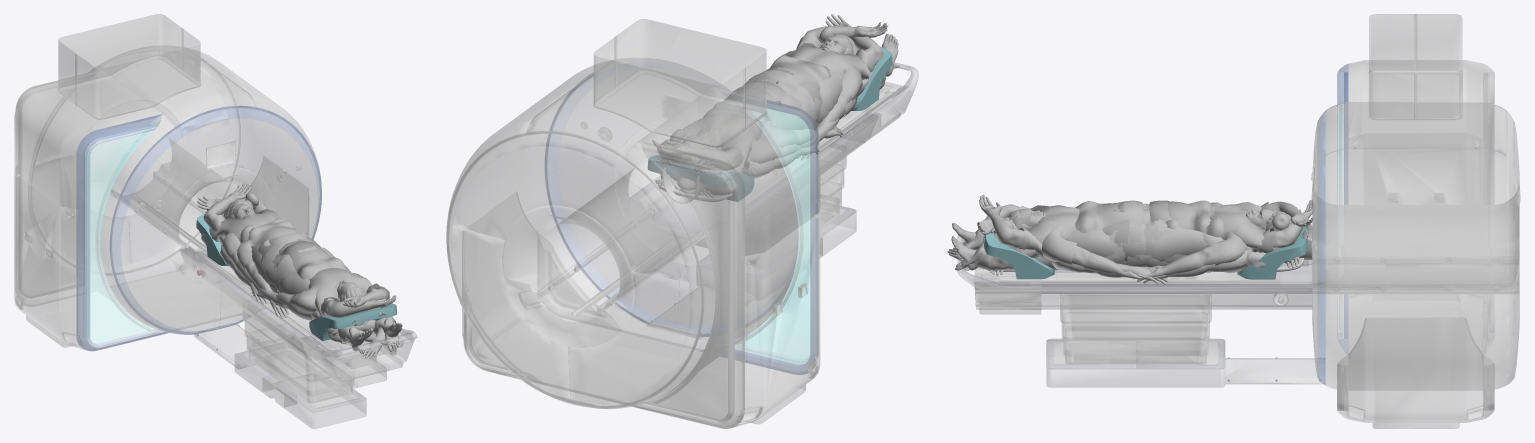
The model's file is Penny.glb.
3 views of the same model, side by side, from view 1: azimuth 30°, elevation 25°; view 2: azimuth 150°, elevation 25°; view 3: azimuth 270°, elevation 25° (orthographic). The views are drawn at different scales.
Visible parts, largest first — view 1: SM_MRI_base, Table, F4_body_geo1.001, scrubsShirt_geo1.001, SM_head_arm_rest2.001, F4_body_geo1, SM_MRI_bed_inOut.001, scrubsShirt_geo1, scrubsShirt_geo5, scrubsShirt_geo9, F4_body_geo3, F4_body_geo8 (+8 smaller); view 2: SM_MRI_base, Table, F4_body_geo1, F4_body_geo1.001, scrubsShirt_geo1.001, scrubsShirt_geo9, SM_head_arm_rest2, scrubsShirt_geo1, SM_head_arm_rest2.001, scrubsShirt_geo7, scrubsShirt_geo5, scrubsShirt_geo4 (+9 smaller); view 3: SM_MRI_base, Table, SM_MRI_bed_inOut.001, scrubsShirt_geo1.001, F4_body_geo1.001, F4_body_geo1, scrubsShirt_geo6, scrubsShirt_geo1, scrubsShirt_geo9, SM_head_arm_rest2.001, SM_head_arm_rest2, scrubsShirt_geo7 (+8 smaller).
Part boxes in pixels (left/top/right/bottom): SM_MRI_base: left=14, top=14, right=321, bottom=351; Table: left=179, top=247, right=417, bottom=428; F4_body_geo1.001: left=206, top=210, right=396, bottom=317; scrubsShirt_geo1.001: left=270, top=241, right=379, bottom=315; SM_head_arm_rest2.001: left=309, top=303, right=396, bottom=341; F4_body_geo1: left=196, top=183, right=387, bottom=325; SM_MRI_bed_inOut.001: left=204, top=256, right=383, bottom=359; scrubsShirt_geo1: left=211, top=205, right=312, bottom=264; scrubsShirt_geo5: left=314, top=268, right=379, bottom=316; scrubsShirt_geo9: left=208, top=209, right=315, bottom=250; F4_body_geo3: left=251, top=278, right=402, bottom=351; F4_body_geo8: left=245, top=259, right=399, bottom=356; SM_MRI_base: left=446, top=19, right=820, bottom=428; Table: left=630, top=62, right=918, bottom=338; F4_body_geo1: left=652, top=128, right=738, bottom=170; F4_body_geo1.001: left=672, top=14, right=888, bottom=171; scrubsShirt_geo1.001: left=748, top=35, right=874, bottom=109; scrubsShirt_geo9: left=683, top=112, right=758, bottom=181; SM_head_arm_rest2: left=647, top=155, right=753, bottom=201; scrubsShirt_geo1: left=713, top=81, right=801, bottom=171; SM_head_arm_rest2.001: left=822, top=43, right=892, bottom=110; scrubsShirt_geo7: left=703, top=87, right=773, bottom=177; scrubsShirt_geo5: left=749, top=43, right=872, bottom=80; scrubsShirt_geo4: left=757, top=48, right=861, bottom=100; SM_MRI_base: left=1311, top=14, right=1520, bottom=428; Table: left=957, top=235, right=1324, bottom=387; SM_MRI_bed_inOut.001: left=999, top=270, right=1280, bottom=285; scrubsShirt_geo1.001: left=1019, top=200, right=1142, bottom=261; F4_body_geo1.001: left=977, top=194, right=1307, bottom=263; F4_body_geo1: left=983, top=199, right=1314, bottom=252; scrubsShirt_geo6: left=1042, top=205, right=1128, bottom=264; scrubsShirt_geo1: left=1149, top=200, right=1273, bottom=252; scrubsShirt_geo9: left=1158, top=202, right=1280, bottom=261; SM_head_arm_rest2.001: left=984, top=215, right=1054, bottom=279; SM_head_arm_rest2: left=1237, top=213, right=1308, bottom=279; scrubsShirt_geo7: left=1165, top=201, right=1247, bottom=272.
Bounding box in the file's own units: 1.94 × 2.02 × 3.44.
6 materials, 3 textured.
